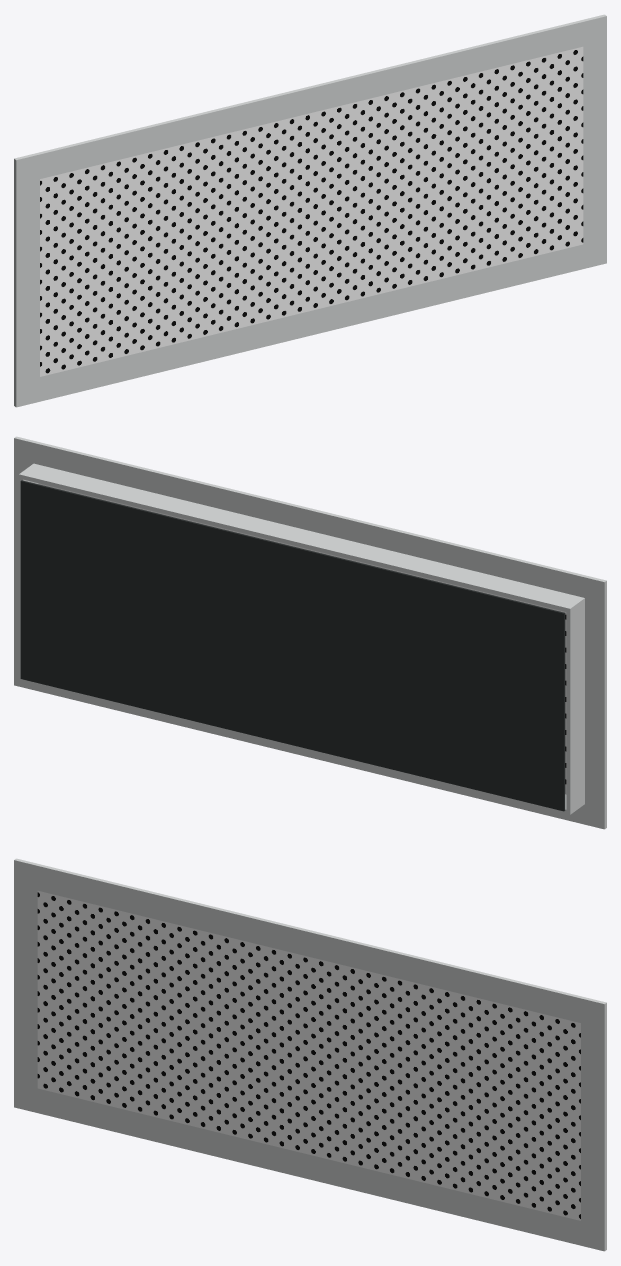
File: ecoclima-eagf-300x120.glb
The picture shows the model from 3 angles, top to bottom: view 1: azimuth 30°, elevation 25°; view 2: azimuth 150°, elevation 25°; view 3: azimuth 330°, elevation 25°; orthographic projection.
Visible parts, largest first — view 1: Profile_lamiera_forata.002, Profile_cornice.113, Profile_cornice.114, Profile_cornice.115, Profile_cornice.116; view 2: Interno.033, Profile_cornice.113, Profile_ritorno.124, Profile_cornice.114, Profile_cornice.115, Profile_ritorno.126, Profile_ritorno.125, Profile_lamiera_forata.002, Profile_cornice.116; view 3: Profile_lamiera_forata.002, Profile_cornice.113, Profile_cornice.114, Profile_cornice.116, Profile_cornice.115.
Part boxes in pixels (left/top/right/bottom): Profile_lamiera_forata.002: left=40, top=46, right=583, bottom=376; Profile_cornice.113: left=14, top=14, right=606, bottom=184; Profile_cornice.114: left=14, top=238, right=606, bottom=407; Profile_cornice.115: left=14, top=179, right=39, bottom=382; Profile_cornice.116: left=583, top=41, right=606, bottom=244; Interno.033: left=20, top=480, right=565, bottom=811; Profile_cornice.113: left=14, top=436, right=606, bottom=606; Profile_ritorno.124: left=19, top=463, right=584, bottom=612; Profile_cornice.114: left=14, top=660, right=606, bottom=829; Profile_cornice.115: left=585, top=602, right=606, bottom=804; Profile_ritorno.126: left=566, top=602, right=584, bottom=810; Profile_ritorno.125: left=19, top=676, right=584, bottom=814; Profile_lamiera_forata.002: left=38, top=483, right=566, bottom=794; Profile_cornice.116: left=14, top=463, right=38, bottom=661; Profile_lamiera_forata.002: left=37, top=890, right=580, bottom=1220; Profile_cornice.113: left=14, top=858, right=606, bottom=1028; Profile_cornice.114: left=14, top=1082, right=606, bottom=1251; Profile_cornice.116: left=581, top=1023, right=606, bottom=1226; Profile_cornice.115: left=14, top=885, right=37, bottom=1088.
Bounding box in the file's own units: 0.3 × 0.12 × 0.017.
3 materials, 1 textured.
